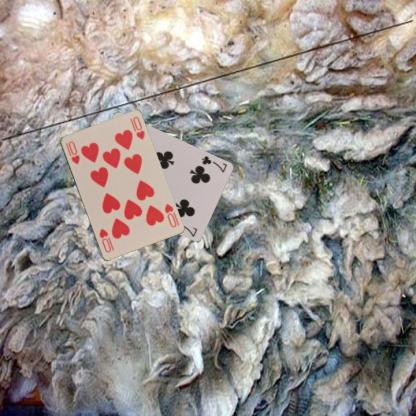10h: (63, 138, 81, 165), (162, 201, 177, 229)
7c: (198, 153, 228, 174)
